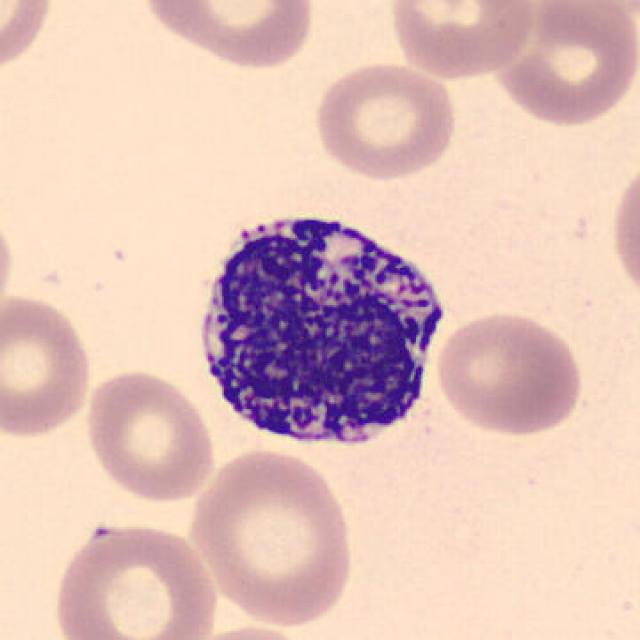Basophil: (185, 196, 453, 460)
RBC: (185, 444, 359, 626), (50, 518, 220, 640), (432, 307, 585, 439), (491, 0, 638, 129), (82, 367, 218, 504), (310, 58, 460, 182), (0, 289, 96, 443), (135, 0, 318, 71), (384, 0, 537, 81), (606, 155, 640, 309), (0, 0, 57, 83), (181, 620, 319, 640), (0, 206, 18, 328)
